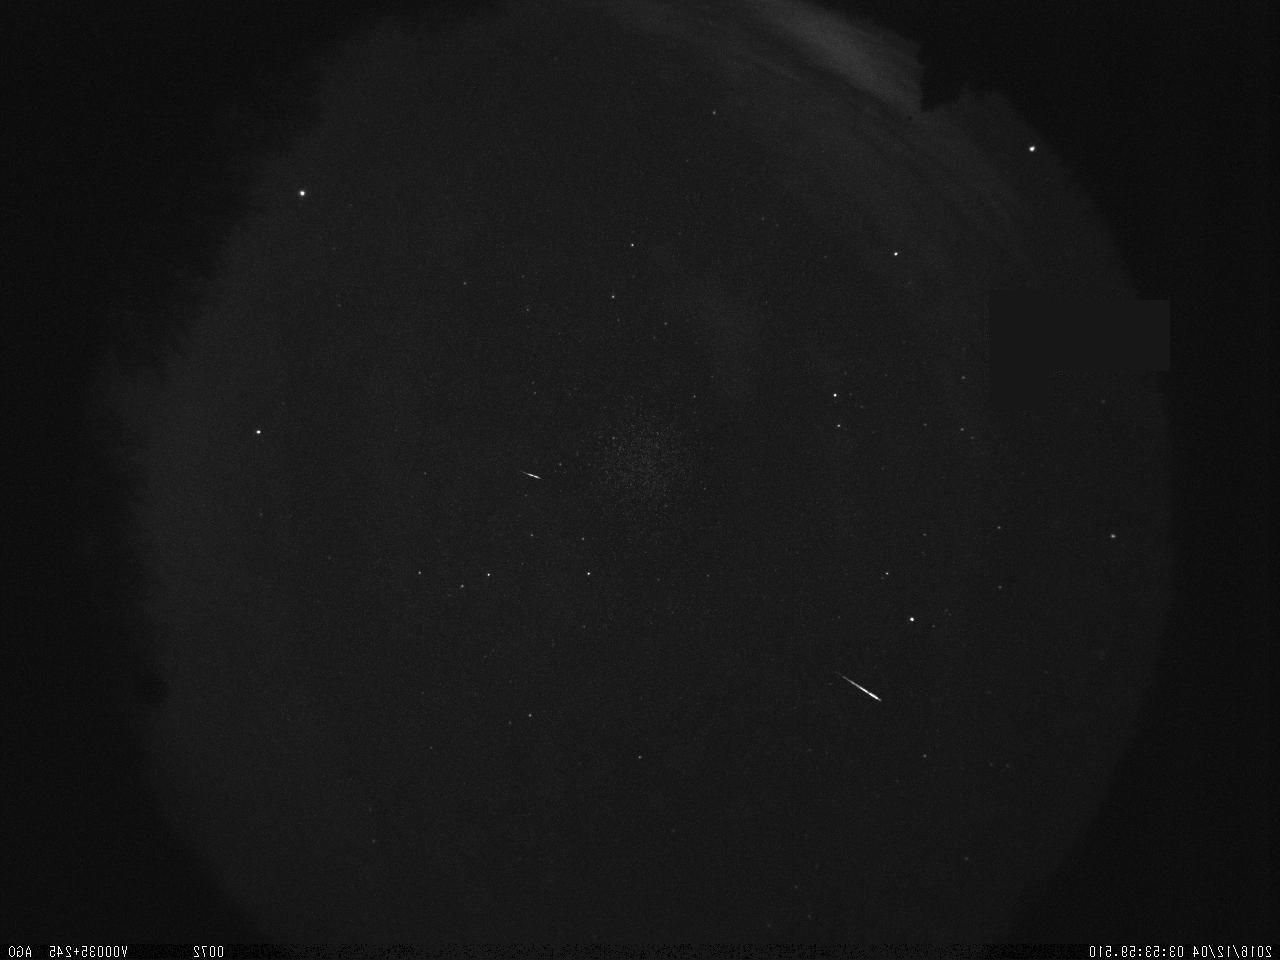meteor: (808, 641, 905, 720)
